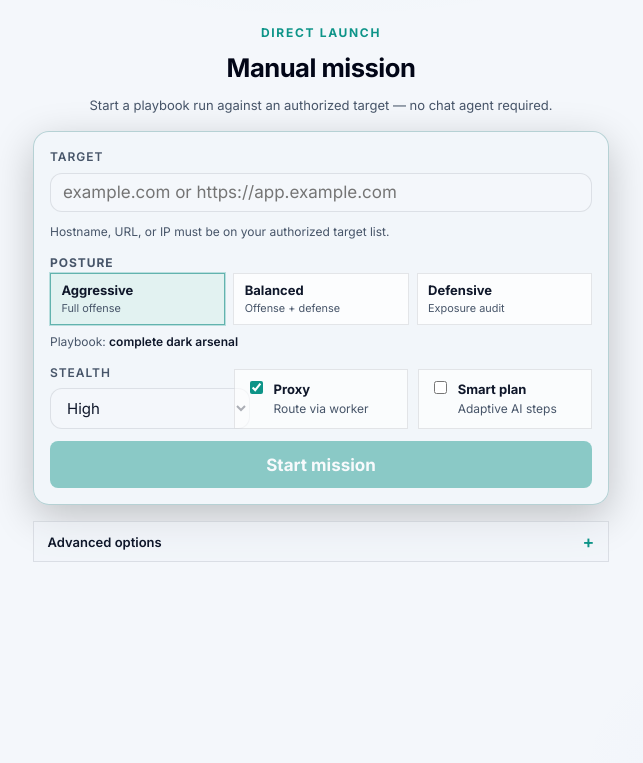
it: ManualMissionForm / derivePhases › keeps advanced controls collapsed by default
Expected: the button "Start mission" is shown, [50, 441, 592, 488]
Expected: the dropdown labelled "Stealth" is shown, [50, 388, 250, 429]
Click the button "Advanced options +": x=105, y=542 [33, 521, 609, 562]
(page scrolled)
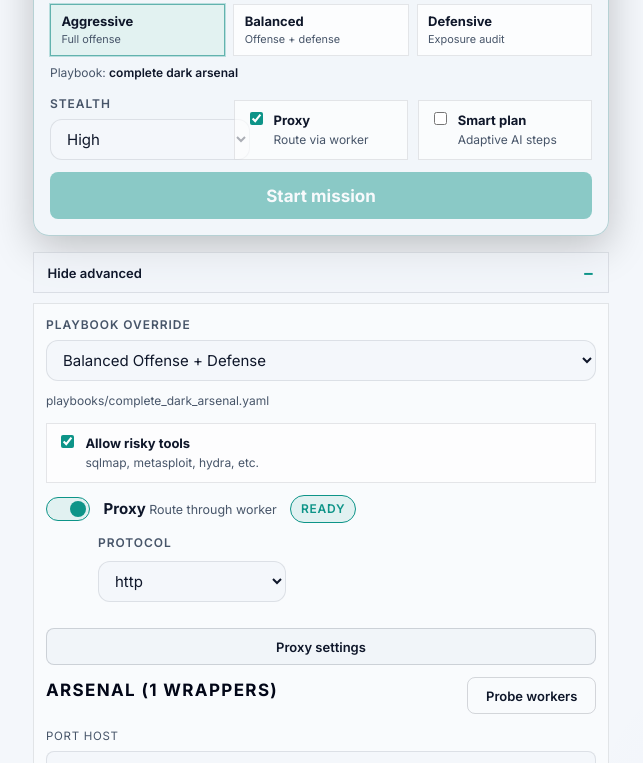
Expected: the button "Proxy settings" is shown, [46, 628, 596, 665]
